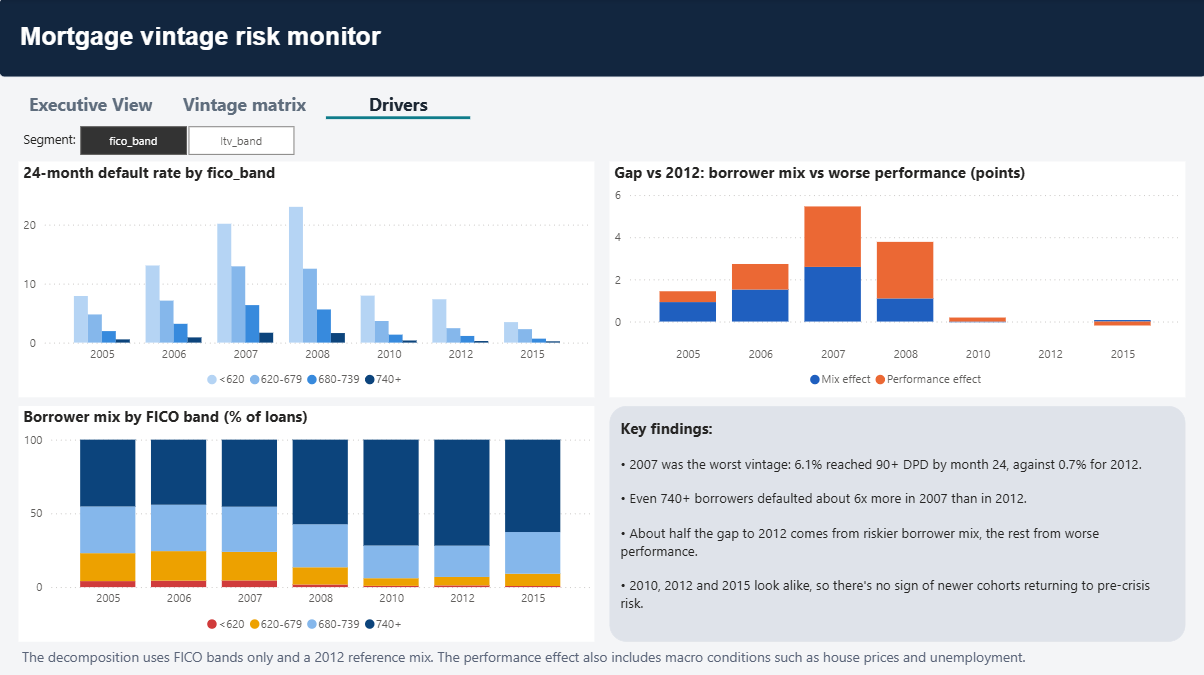

What the dashboard file says about the page in this screenshot:
{"tool":"powerbi","page":{"name":"Drivers","canvas":[1280,720],"ordinal":2},"visuals":[{"type":"textbox","box":[0,0,1280.8,84.2],"z":0},{"type":"pageNavigator","box":[20.7,95,480.4,33.4],"z":1000},{"type":"clusteredColumnChart","fields":{"Series":["vintage_segments.segment_value"],"Category":["vintage_segments.vintage"],"Y":["Avg(vintage_segments.cum_default_pct)"]},"box":[20.7,173.4,610.8,249.7],"z":2000},{"type":"slicer","fields":{"Values":["vintage_segments.segment_type"]},"box":[60.4,128.8,276.8,44.5],"z":3000},{"type":"textbox","box":[20.7,135.2,79.5,38.2],"z":4000},{"type":"columnChart","title":"Gap vs 2012: borrower mix vs worse performance (points)","fields":{"Category":["mix_shift.vintage_year"],"Y":["Sum(mix_shift.mix_effect)","Sum(mix_shift.perf_effect)"]},"box":[647.4,173.4,610.8,249.7],"z":5000},{"type":"columnChart","title":"Borrower mix by FICO band (% of loans)","fields":{"Category":["mix_by_fico.vintage_year"],"Y":["Sum(mix_by_fico.share_pct)"],"Series":["mix_by_fico.fico_band"]},"box":[20.7,432.6,610.8,249.7],"z":6000},{"type":"textbox","box":[19.1,682.4,1239.1,38.2],"z":7000},{"type":"textbox","box":[647.4,432.6,610.8,249.7],"z":8000}]}

Visuals, with their boxes in screenshot pixels (x1, y1, x2, y2), scaled from the page's 1280x720 canvas onto the 1204x675 screenshot:
textbox: <bbox>0, 0, 1203, 79</bbox>
pageNavigator: <bbox>19, 89, 471, 120</bbox>
clusteredColumnChart - vintage_segments.segment_value x vintage_segments.vintage: <bbox>19, 163, 594, 397</bbox>
slicer - vintage_segments.segment_type: <bbox>57, 121, 317, 162</bbox>
textbox: <bbox>19, 127, 94, 163</bbox>
"Gap vs 2012: borrower mix vs worse performance (points)" columnChart: <bbox>609, 163, 1183, 397</bbox>
"Borrower mix by FICO band (% of loans)" columnChart: <bbox>19, 406, 594, 640</bbox>
textbox: <bbox>18, 640, 1183, 674</bbox>
textbox: <bbox>609, 406, 1183, 640</bbox>
